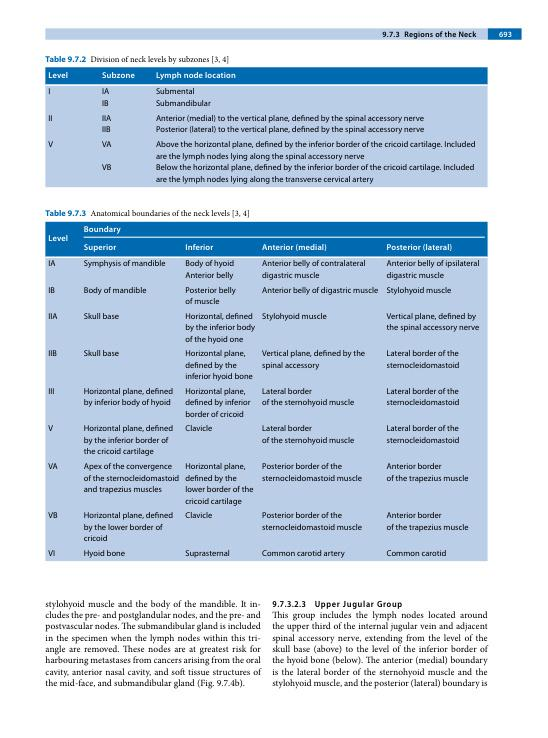caption: (44, 209, 250, 219), (44, 55, 230, 66)
header: (381, 30, 478, 40)
sub-section-heading: (313, 599, 403, 610)
table: (45, 221, 488, 561), (45, 67, 488, 187)
text: (44, 599, 263, 690), (271, 610, 488, 691)
